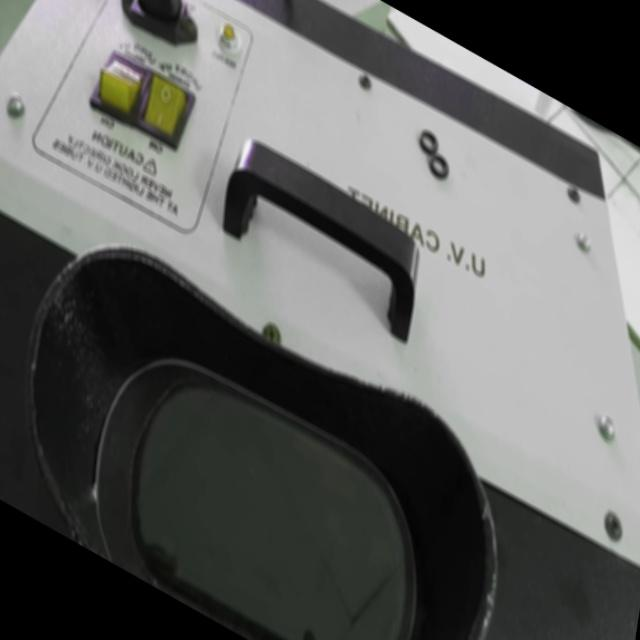U.V Cabinet: (0, 0, 605, 640)
